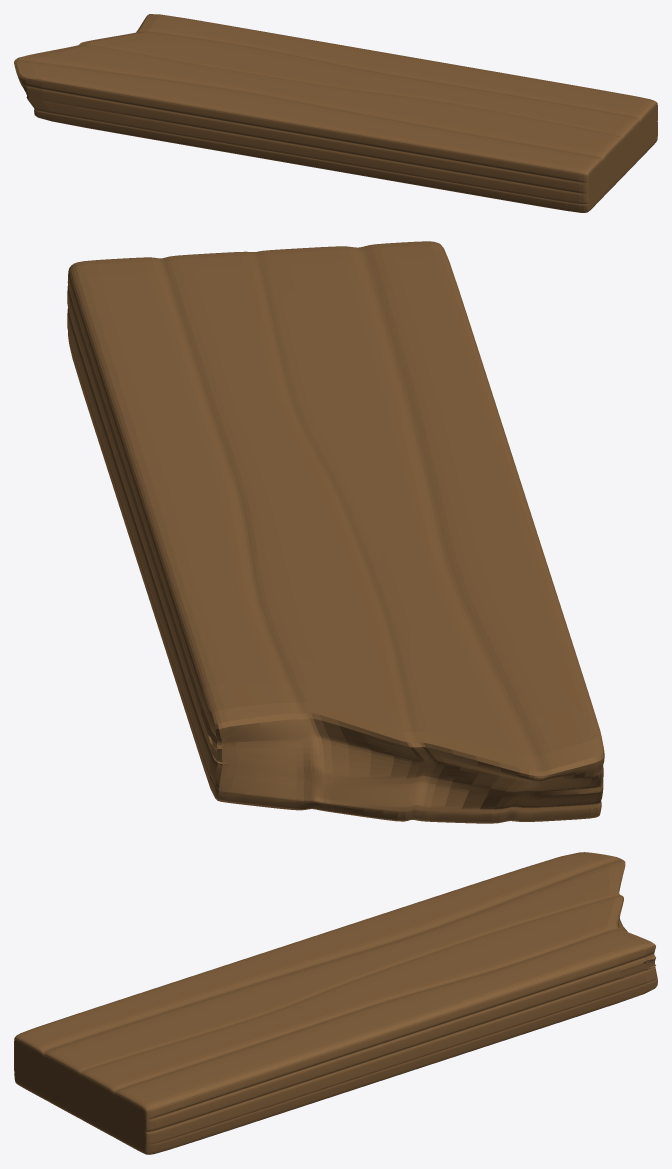
The picture shows the model from 3 angles, top to bottom: view 1: azimuth 30°, elevation 25°; view 2: azimuth 150°, elevation 25°; view 3: azimuth 270°, elevation 25°; orthographic projection. The views are drawn at different scales.
Visible parts, largest first — view 1: plankb..002; view 2: plankb..002; view 3: plankb..002.
Part boxes in pixels (x1,y1,x2,y2): plankb..002: [14, 14, 657, 212]; plankb..002: [67, 241, 604, 823]; plankb..002: [14, 852, 657, 1154].
Size of the model in its own units: 3567 by 334 by 3765.
